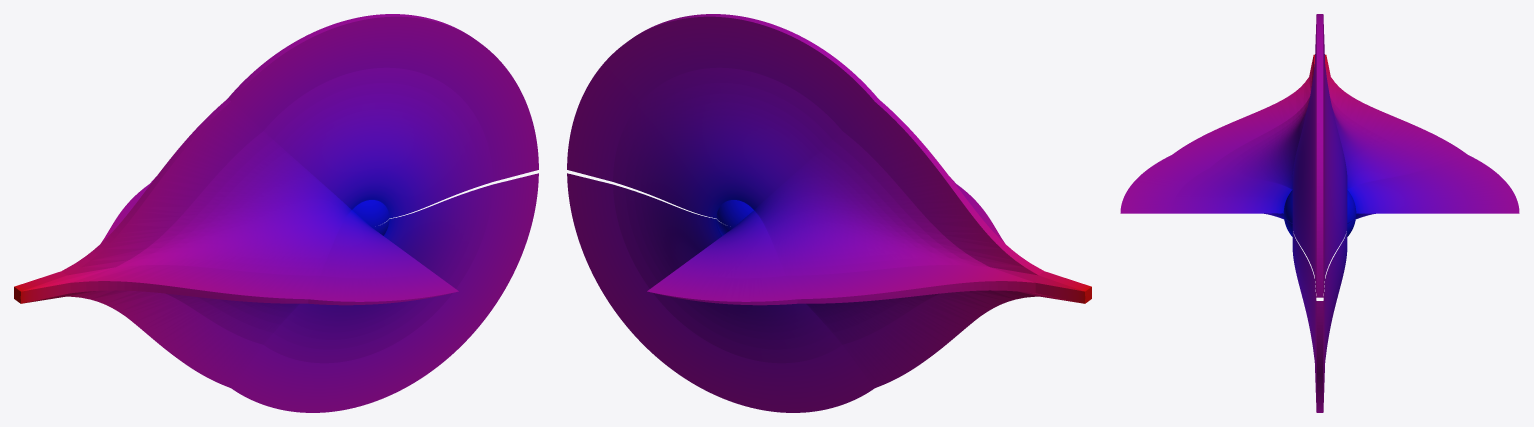
Rendered from radiation_pattern_full.glb.
The picture shows the model from 3 angles, left to right: view 1: azimuth 30°, elevation 25°; view 2: azimuth 150°, elevation 25°; view 3: azimuth 270°, elevation 25°; orthographic projection. The views are drawn at different scales.
Parts seen in each view (by area): view 1: world; view 2: world; view 3: world.
Part boxes in pixels (bbox=[...]): world: bbox=[14, 14, 538, 412]; world: bbox=[567, 14, 1091, 412]; world: bbox=[1120, 14, 1519, 412].
Bounding box in the file's own units: 1550 × 1100 × 1100.
